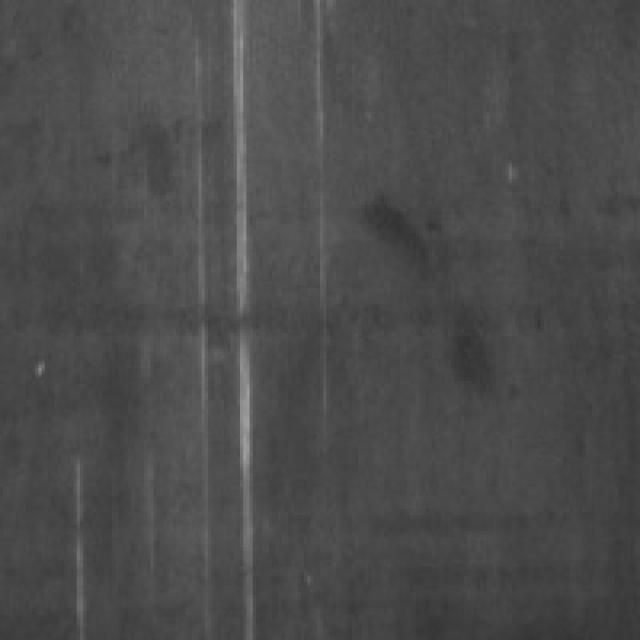scratches: (224, 0, 275, 624)
